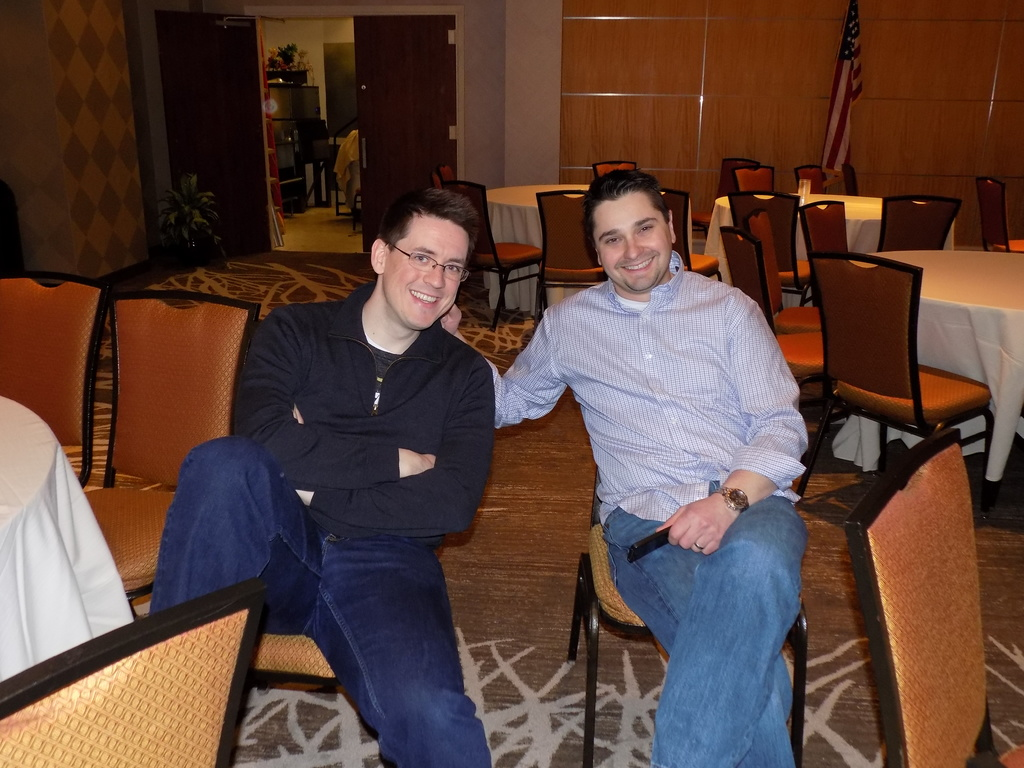Chair: (567, 460, 811, 767), (841, 426, 1023, 767), (80, 288, 261, 604), (0, 575, 273, 767), (806, 236, 978, 500), (715, 214, 831, 470), (0, 273, 115, 493), (446, 180, 546, 331), (532, 185, 612, 336), (739, 212, 827, 336), (726, 189, 809, 305), (795, 198, 856, 307), (661, 192, 722, 287), (693, 159, 763, 236), (874, 196, 963, 252), (240, 636, 339, 686), (980, 175, 1023, 257), (590, 156, 636, 182), (793, 166, 827, 196), (733, 166, 775, 190), (431, 168, 448, 188), (440, 165, 459, 181)
